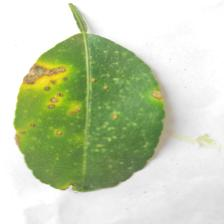canker: (20, 59, 166, 155)
